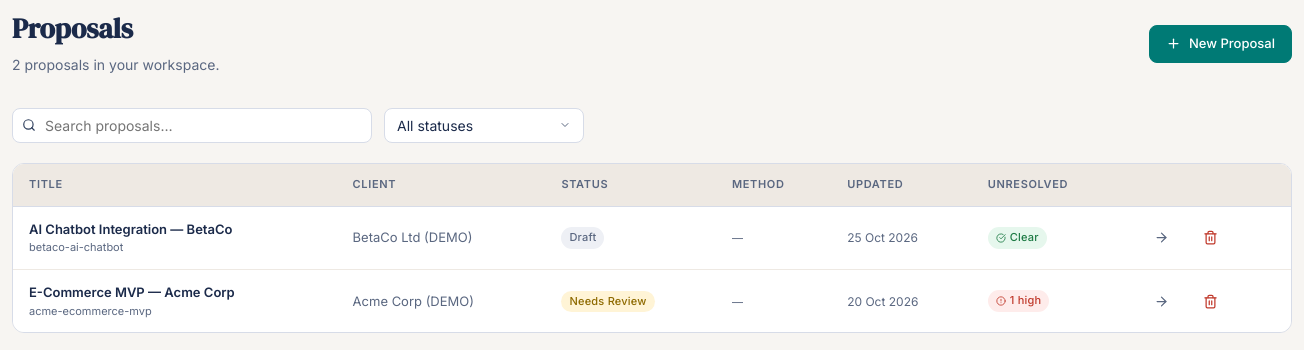
Test: ProposalsList Component › filters proposals based on search term
Type "Acme" into the search field with placeholder "Search proposals…" at x=192, y=126, box [12,108,372,143]
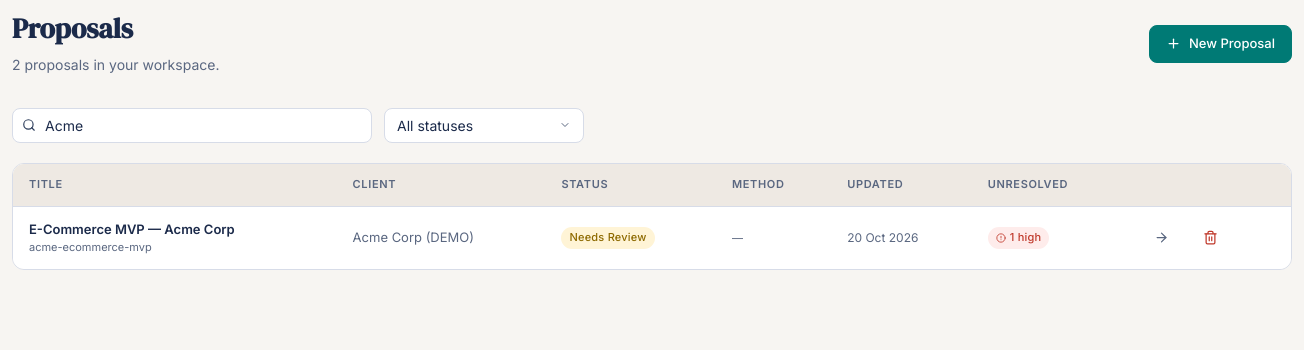
Expected: the text "E-Commerce MVP — Acme Corp" is shown, [29,221,235,237]
Now the text "AI Chatbot Integration — BetaCo" is gone
